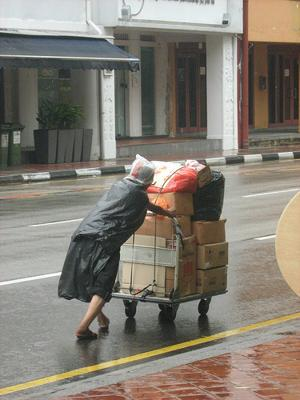person: (58, 160, 156, 339)
